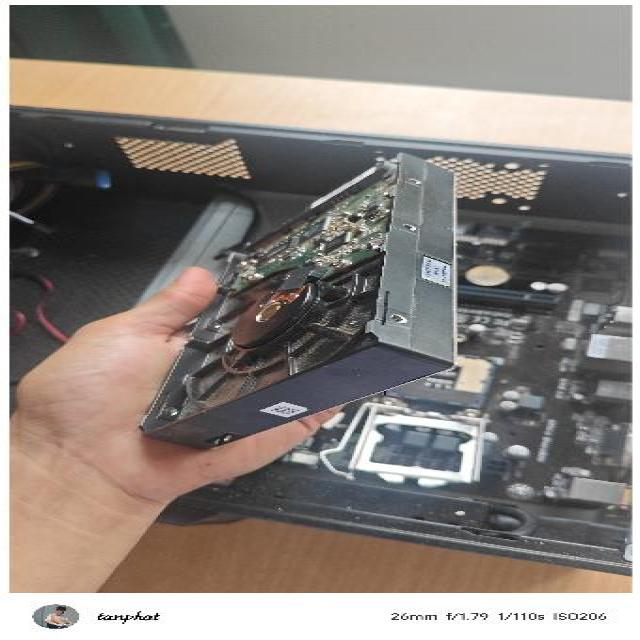DISK: (135, 149, 464, 451)
